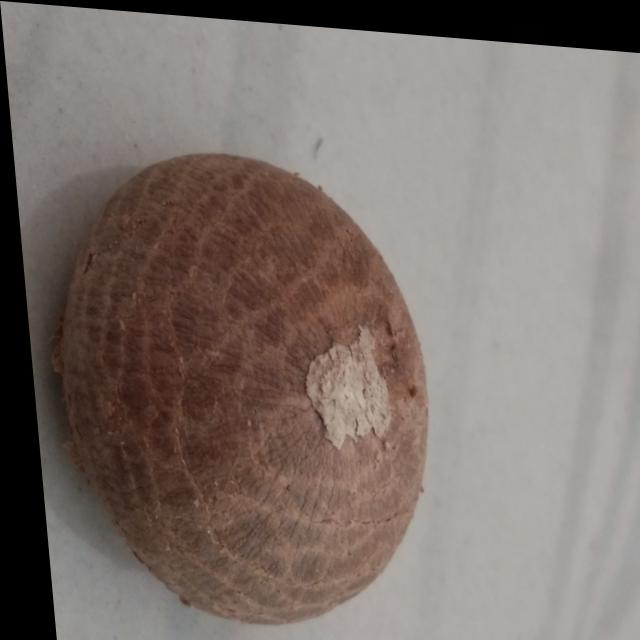good: (12, 115, 457, 640)
